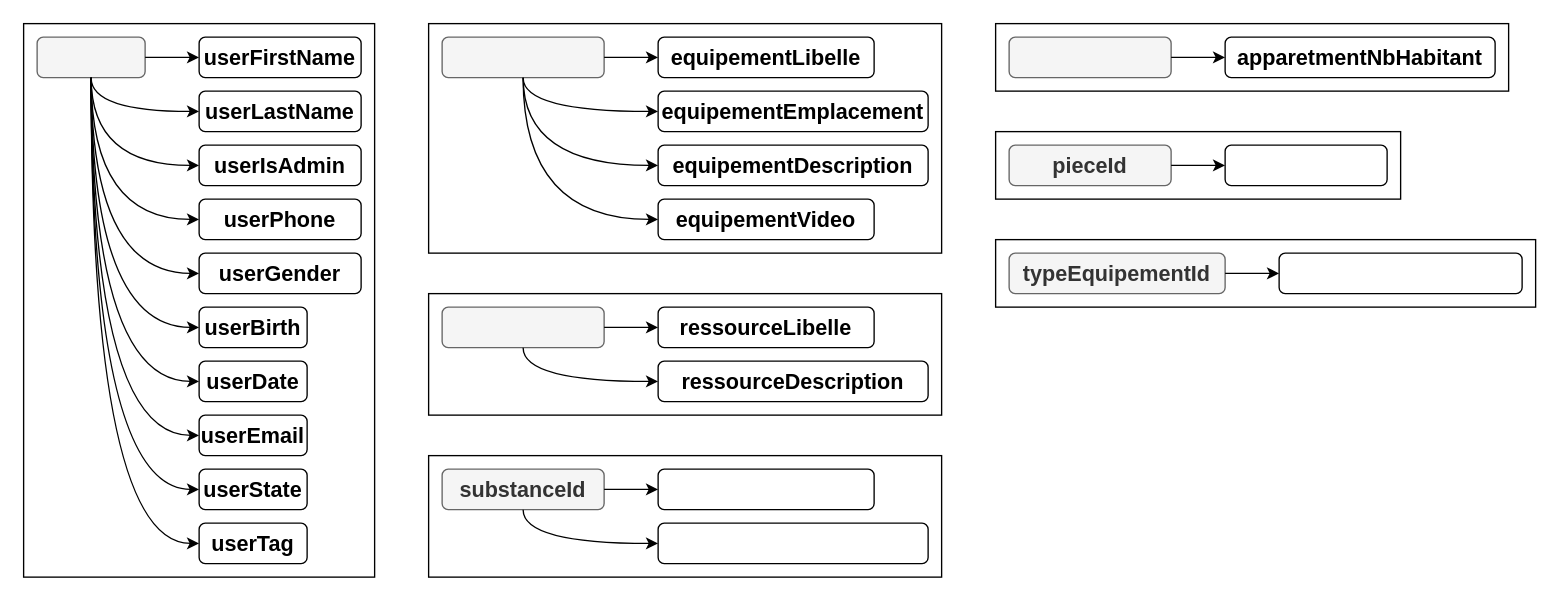
The diagram is 1559 pixels wide and 601 high, and some of its shapes have lost their labels. The box of each missing label's shape, as (x1, y1, x2, y2) in pixels:
appartementId: (1008, 36, 1171, 78)
equipementId: (441, 36, 604, 78)
pieceLibelle: (1224, 144, 1387, 186)
ressourceId: (441, 306, 604, 348)
substanceDescription: (657, 522, 928, 564)
substanceLibelle: (657, 468, 874, 510)
typeEquipementLibelle: (1278, 252, 1522, 294)
userId: (36, 36, 145, 78)
